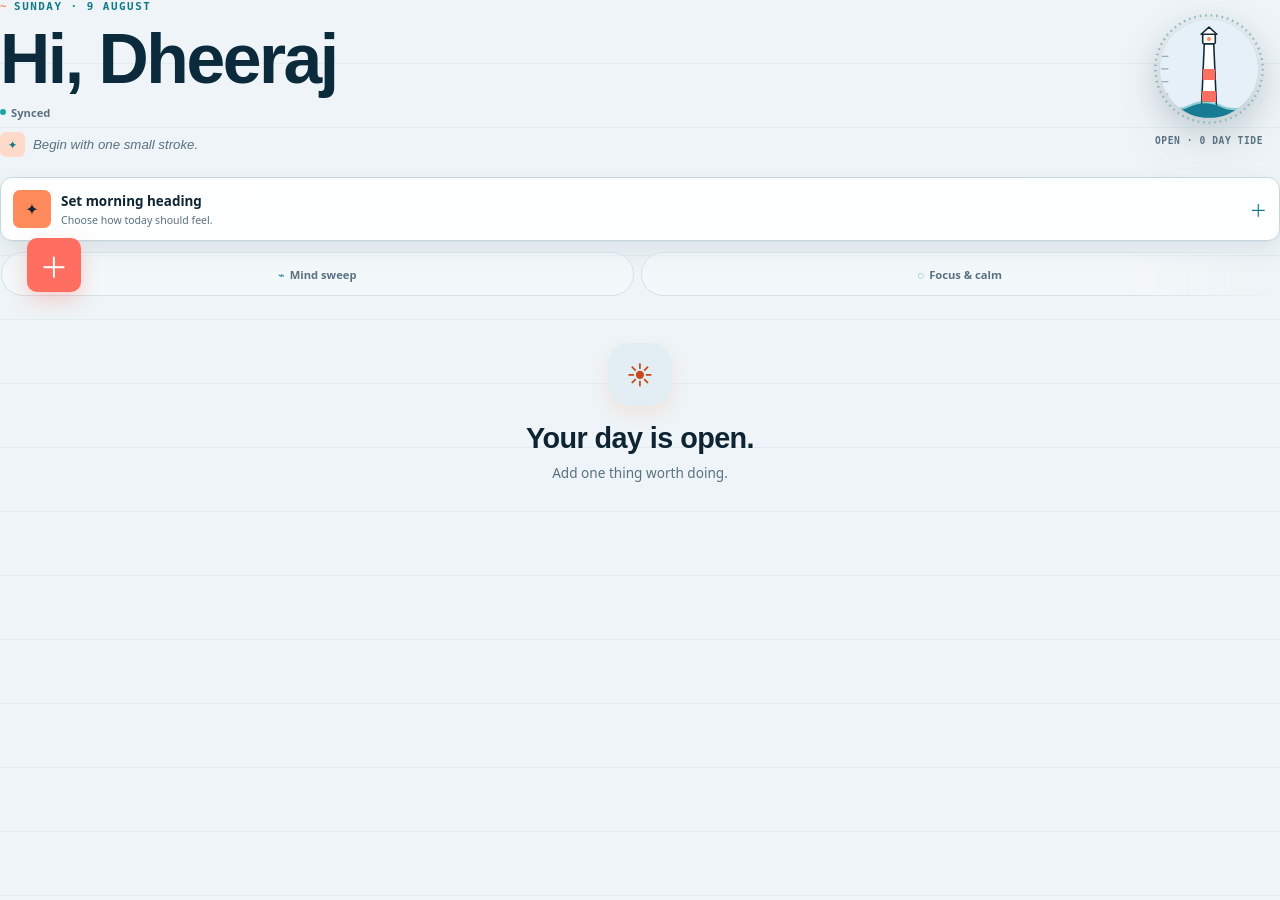
Test case: quick add asks only for title and date until more options opens
Click the button named "Add task" at (54, 265), box [27, 238, 81, 292]
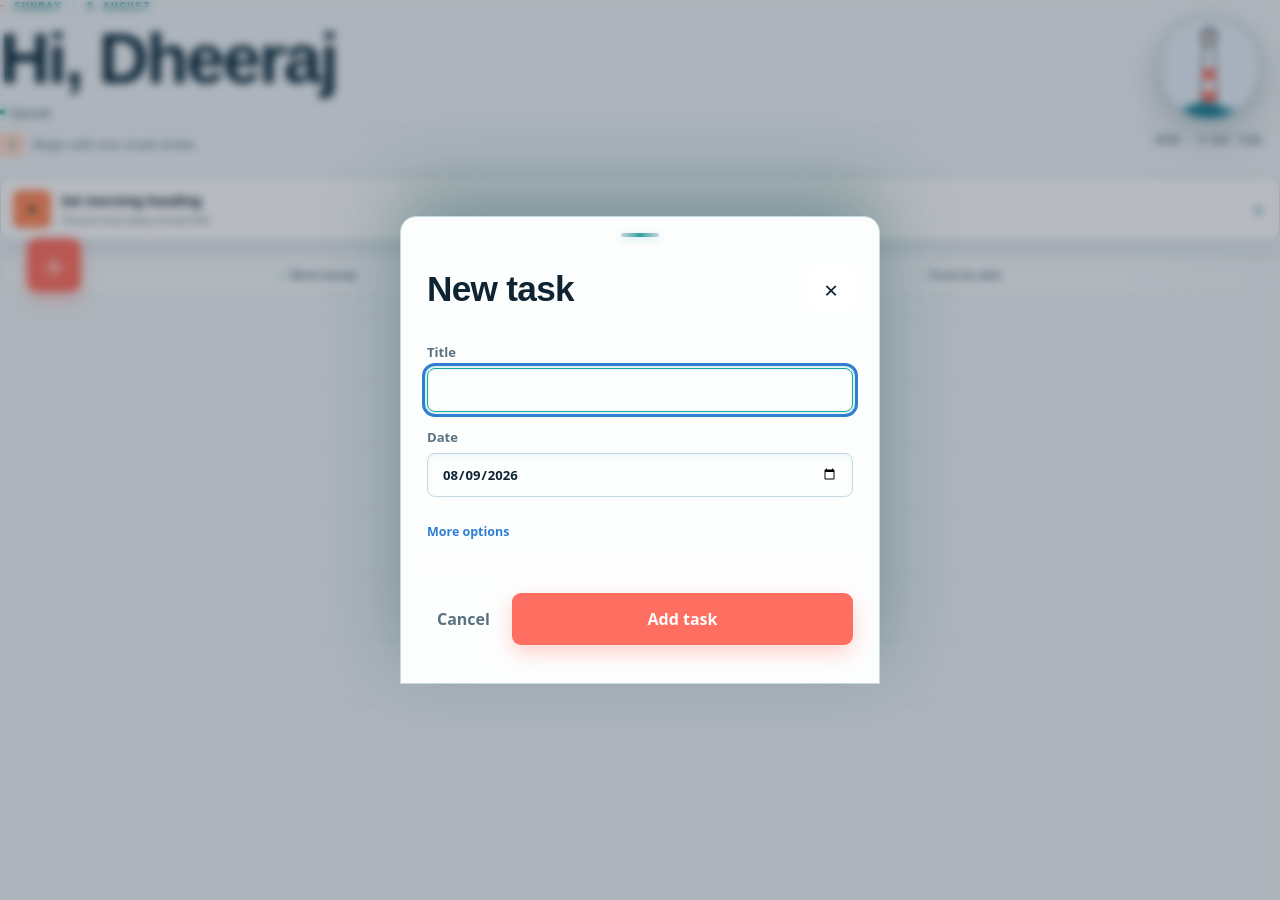
Check: the field labelled "Proof required" is not shown
Check: the field labelled "Title" is shown, box [427, 368, 853, 412]
Click the button "More options" at (468, 531), box [427, 513, 509, 549]
(page scrolled)
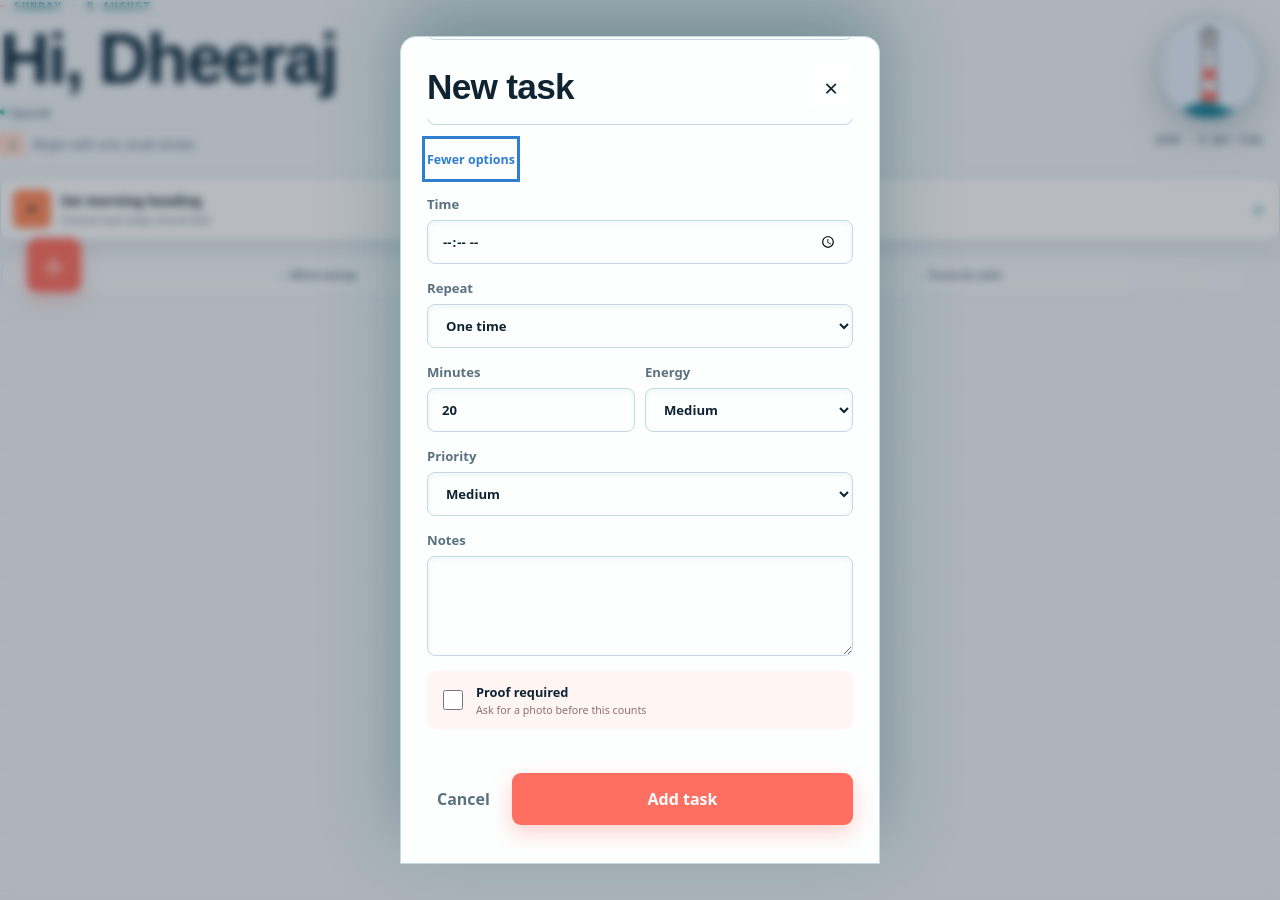
Check: the checkbox labelled "Proof required" is shown, box [443, 690, 463, 710]
